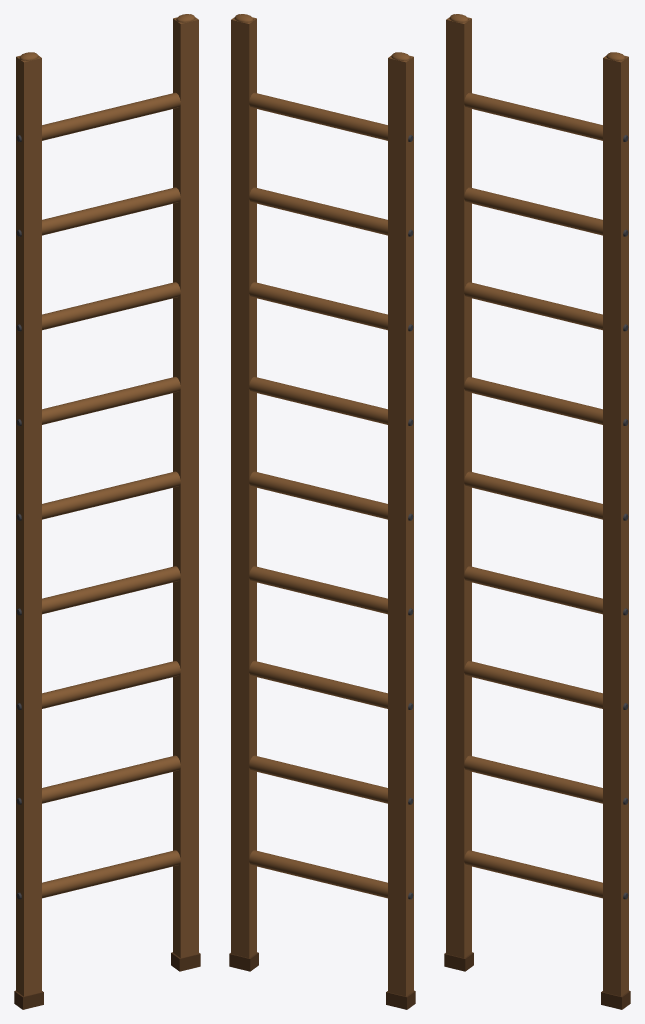
File: ladder.obj
3 renders of one model, left to right at view 1: azimuth 30°, elevation 25°; view 2: azimuth 150°, elevation 25°; view 3: azimuth 330°, elevation 25°, orthographic.
Visible parts, largest first — view 1: ladder; view 2: ladder; view 3: ladder.
Boxes of the visible parts, box(x1,y1,x2,y2) form: ladder: box(14, 14, 200, 1009); ladder: box(229, 14, 415, 1009); ladder: box(444, 14, 630, 1009).
Size of the model in its own units: 0.592 by 3.01 by 0.05.
